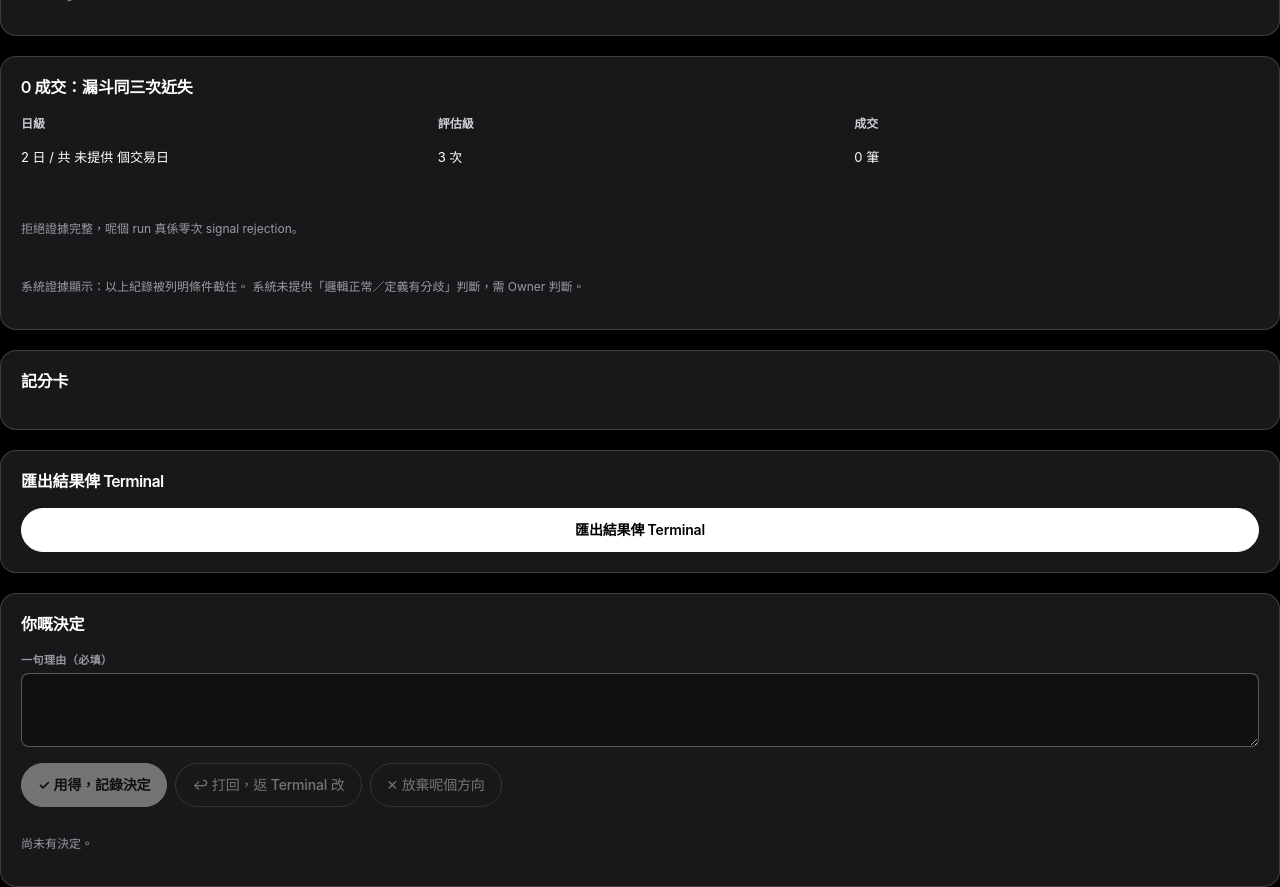
P5 Stage 2 normal export and decisions › keeps reason and appends zero records for 404 decision response
This screenshot has width=1280, height=887.
(page scrolled)
Expected: the text "尚未有決定。" is shown, top-left (21, 836), bottom-right (93, 851)
Type "Keep reason" into the text box with test id "decision-reason". click: coordinates (640, 710)
box: top-left (21, 673), bottom-right (1259, 747)
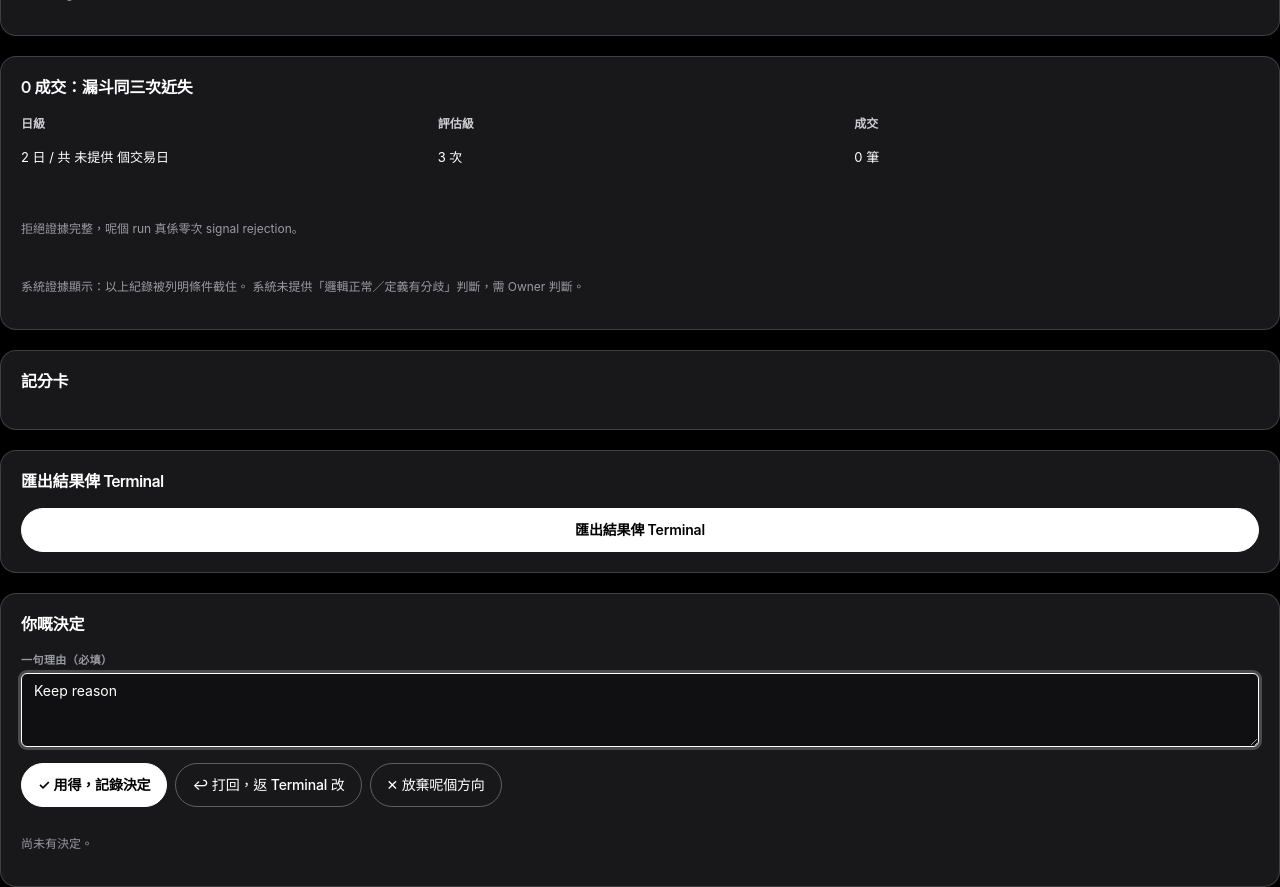
Click the button with test id "decision-abandon". click: coordinates (436, 785)
box: top-left (370, 763), bottom-right (502, 807)
(page scrolled)
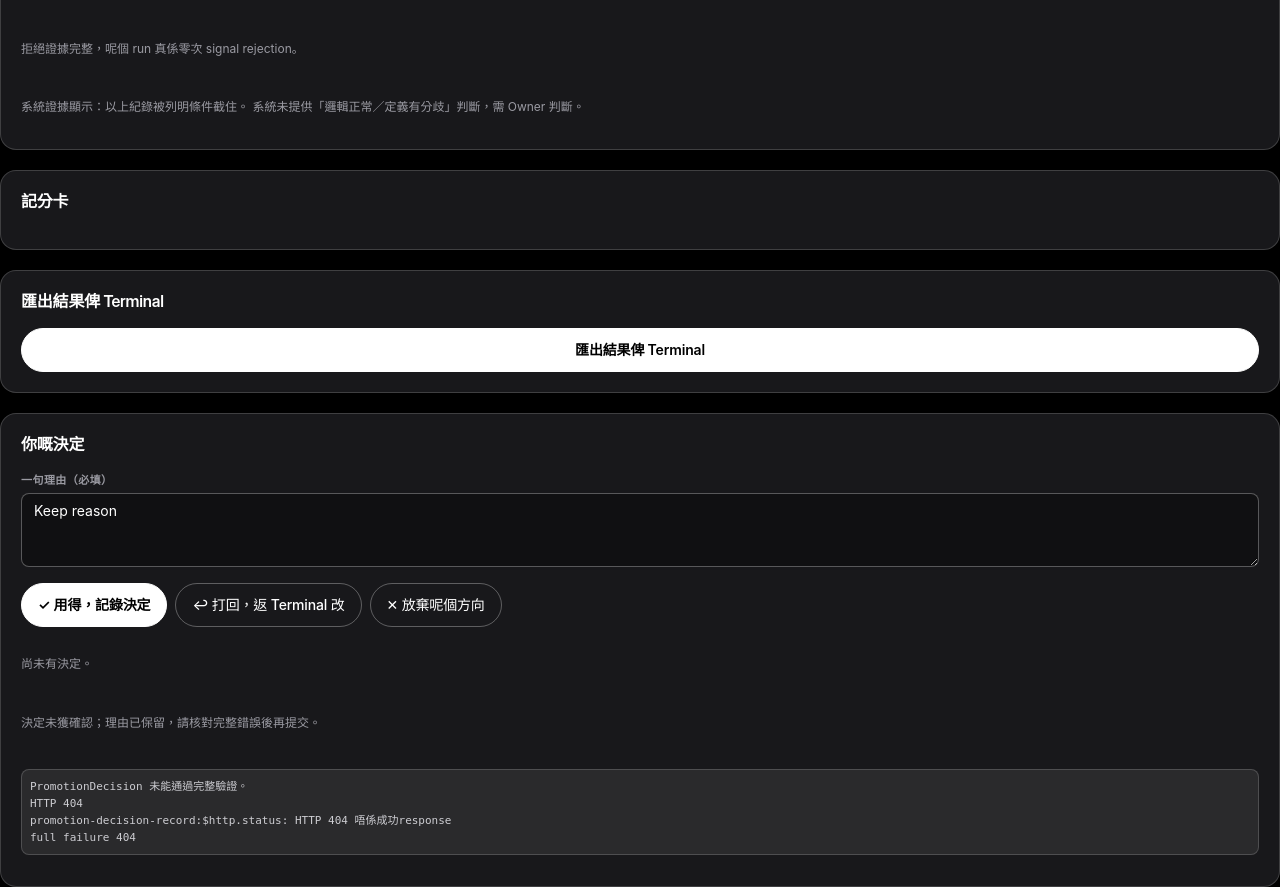
Now the text with test id "decision-error" is shown, box top-left (21, 769), bottom-right (1259, 855)
